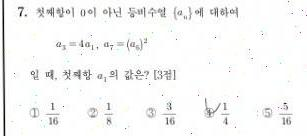choice: (201, 100, 217, 120)
not-choice: (86, 105, 99, 119), (261, 106, 274, 119), (144, 106, 156, 119), (27, 107, 41, 118)
